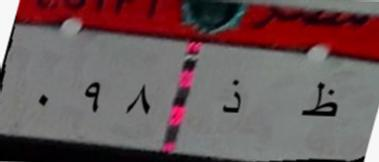0: (28, 84, 56, 120)
8: (123, 82, 154, 124)
9: (74, 76, 106, 121)
Thaa: (297, 80, 342, 125)
zaal: (217, 73, 247, 125)
